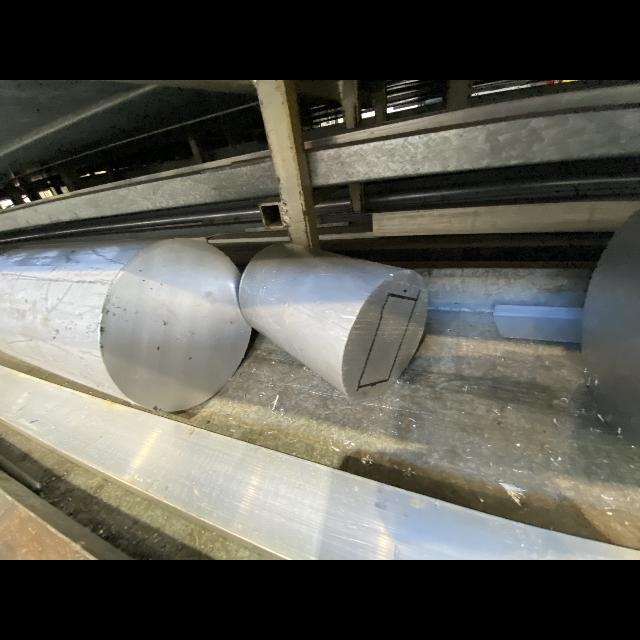Aluminium: (0, 367, 640, 560), (0, 238, 249, 412), (239, 245, 427, 397), (581, 211, 640, 445)
Ferrous Metal: (493, 304, 583, 343)
